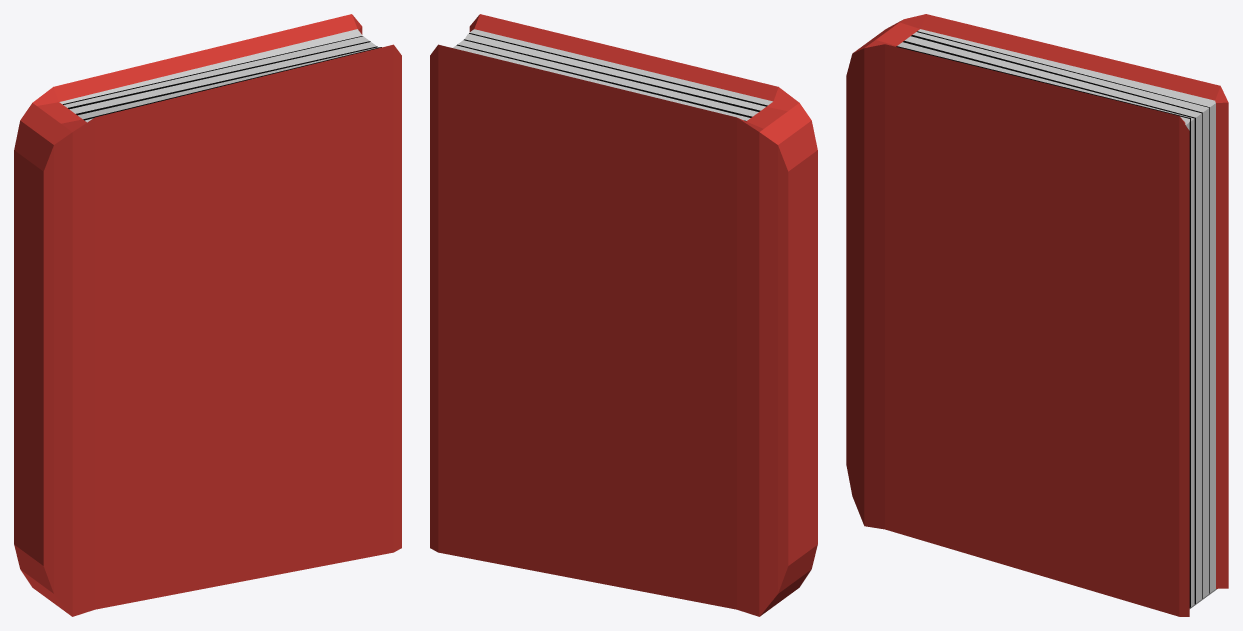
File: buchRot.fbx
3 renders of one model, left to right at view 1: azimuth 30°, elevation 25°; view 2: azimuth 150°, elevation 25°; view 3: azimuth 330°, elevation 25°, orthographic.
Parts seen in each view (by area): view 1: Cube; view 2: Cube; view 3: Cube.
Part boxes in pixels (box(x1,y1,x2,y2)): Cube: box(14, 14, 401, 616); Cube: box(430, 14, 817, 616); Cube: box(846, 14, 1228, 616).
Size of the model in its own units: 14.64 by 20.12 by 3.
